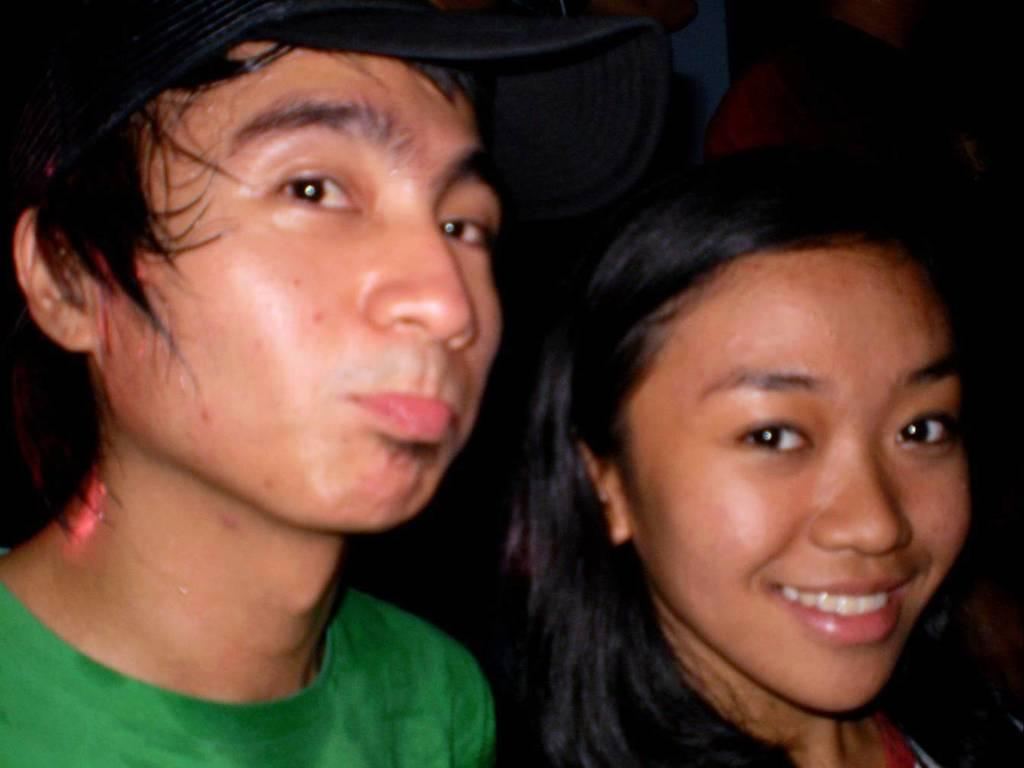Hat: (0, 0, 671, 229)
